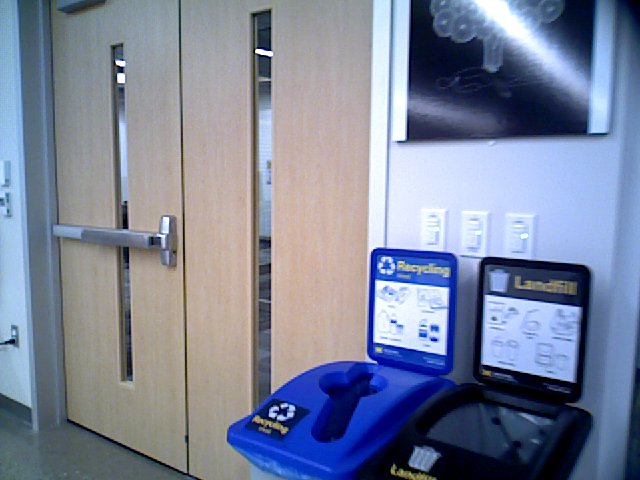painting1: (394, 1, 640, 143)
